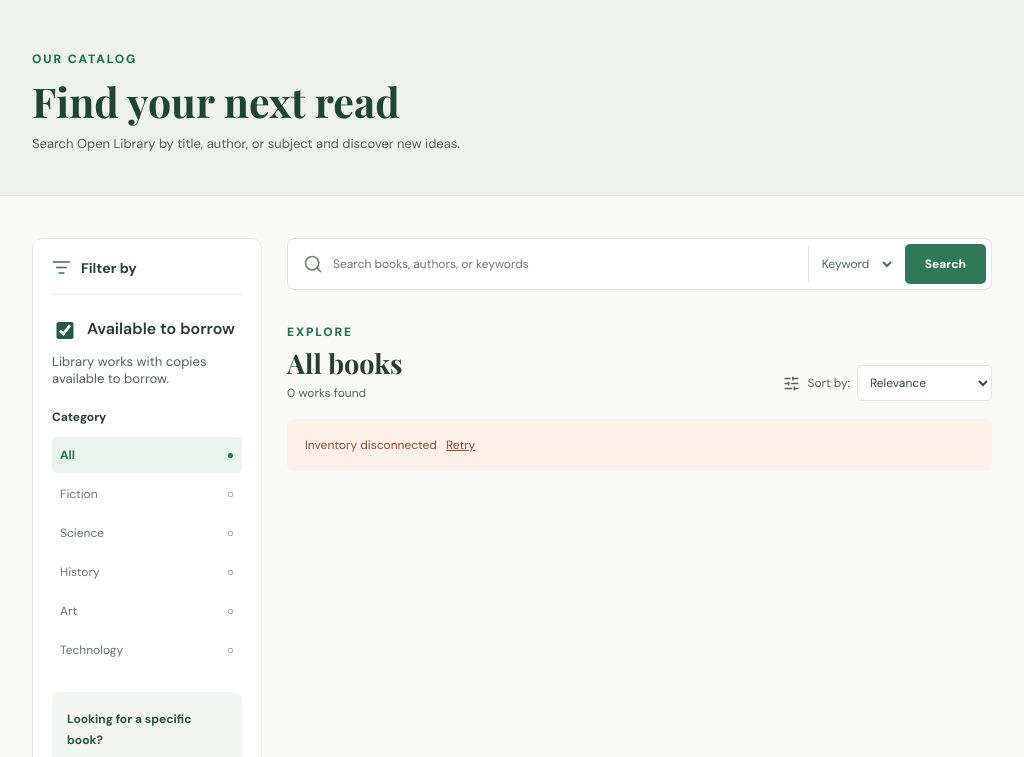
Test: an inventory error is not shown as an empty collection and allows retrying
The image size is (1024, 757).
Expected: the message shows "Inventory disconnected", [305,437,437,453]
Click the button "Retry" at (461, 445), box [440,435,481,455]
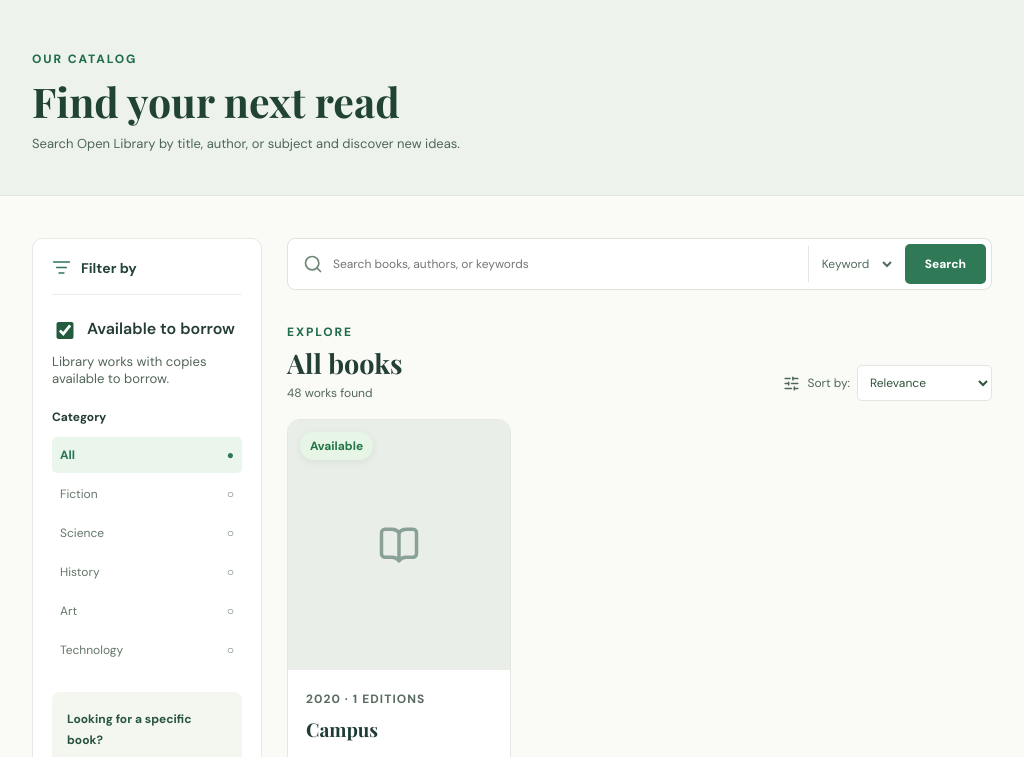
Expected: the checkbox is checked, [56,322,74,339]
Expected: the heading "Campus" is shown, [306,716,378,742]
